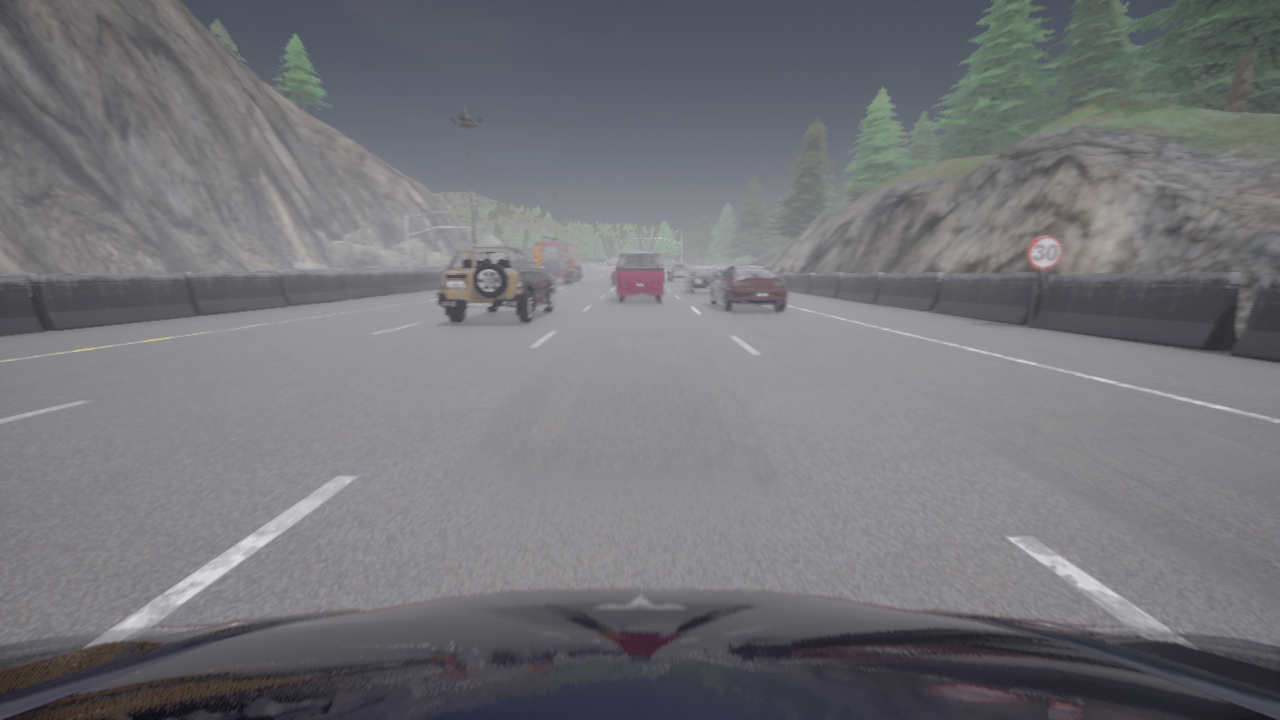cyclist: (0, 588, 1279, 719), (437, 245, 555, 322), (710, 264, 786, 310), (616, 251, 663, 302), (533, 235, 582, 283), (684, 269, 720, 293), (668, 263, 690, 281), (611, 269, 616, 284)
